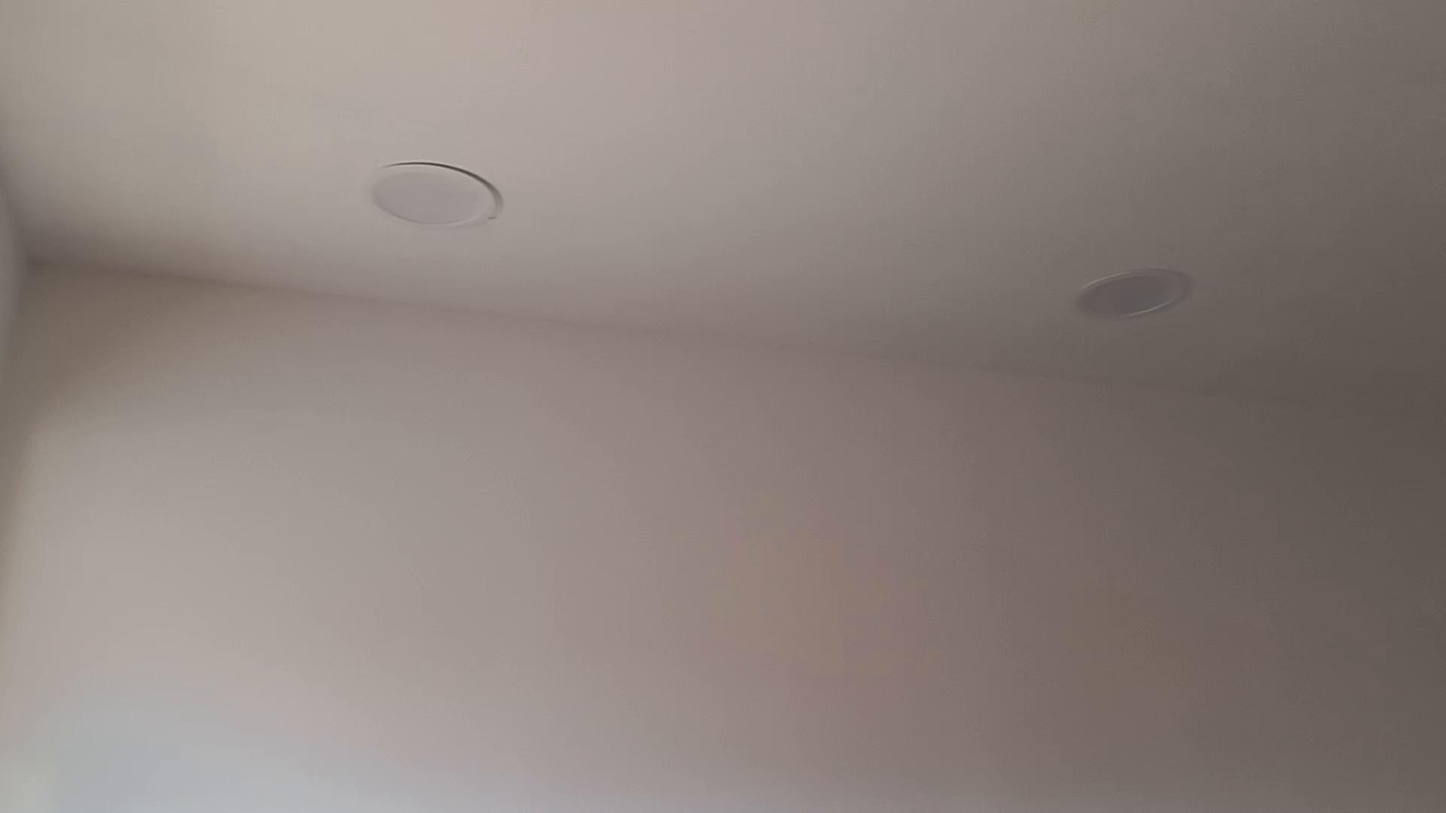ceiling: (0, 0, 1445, 399)
wall: (0, 268, 1445, 809)
